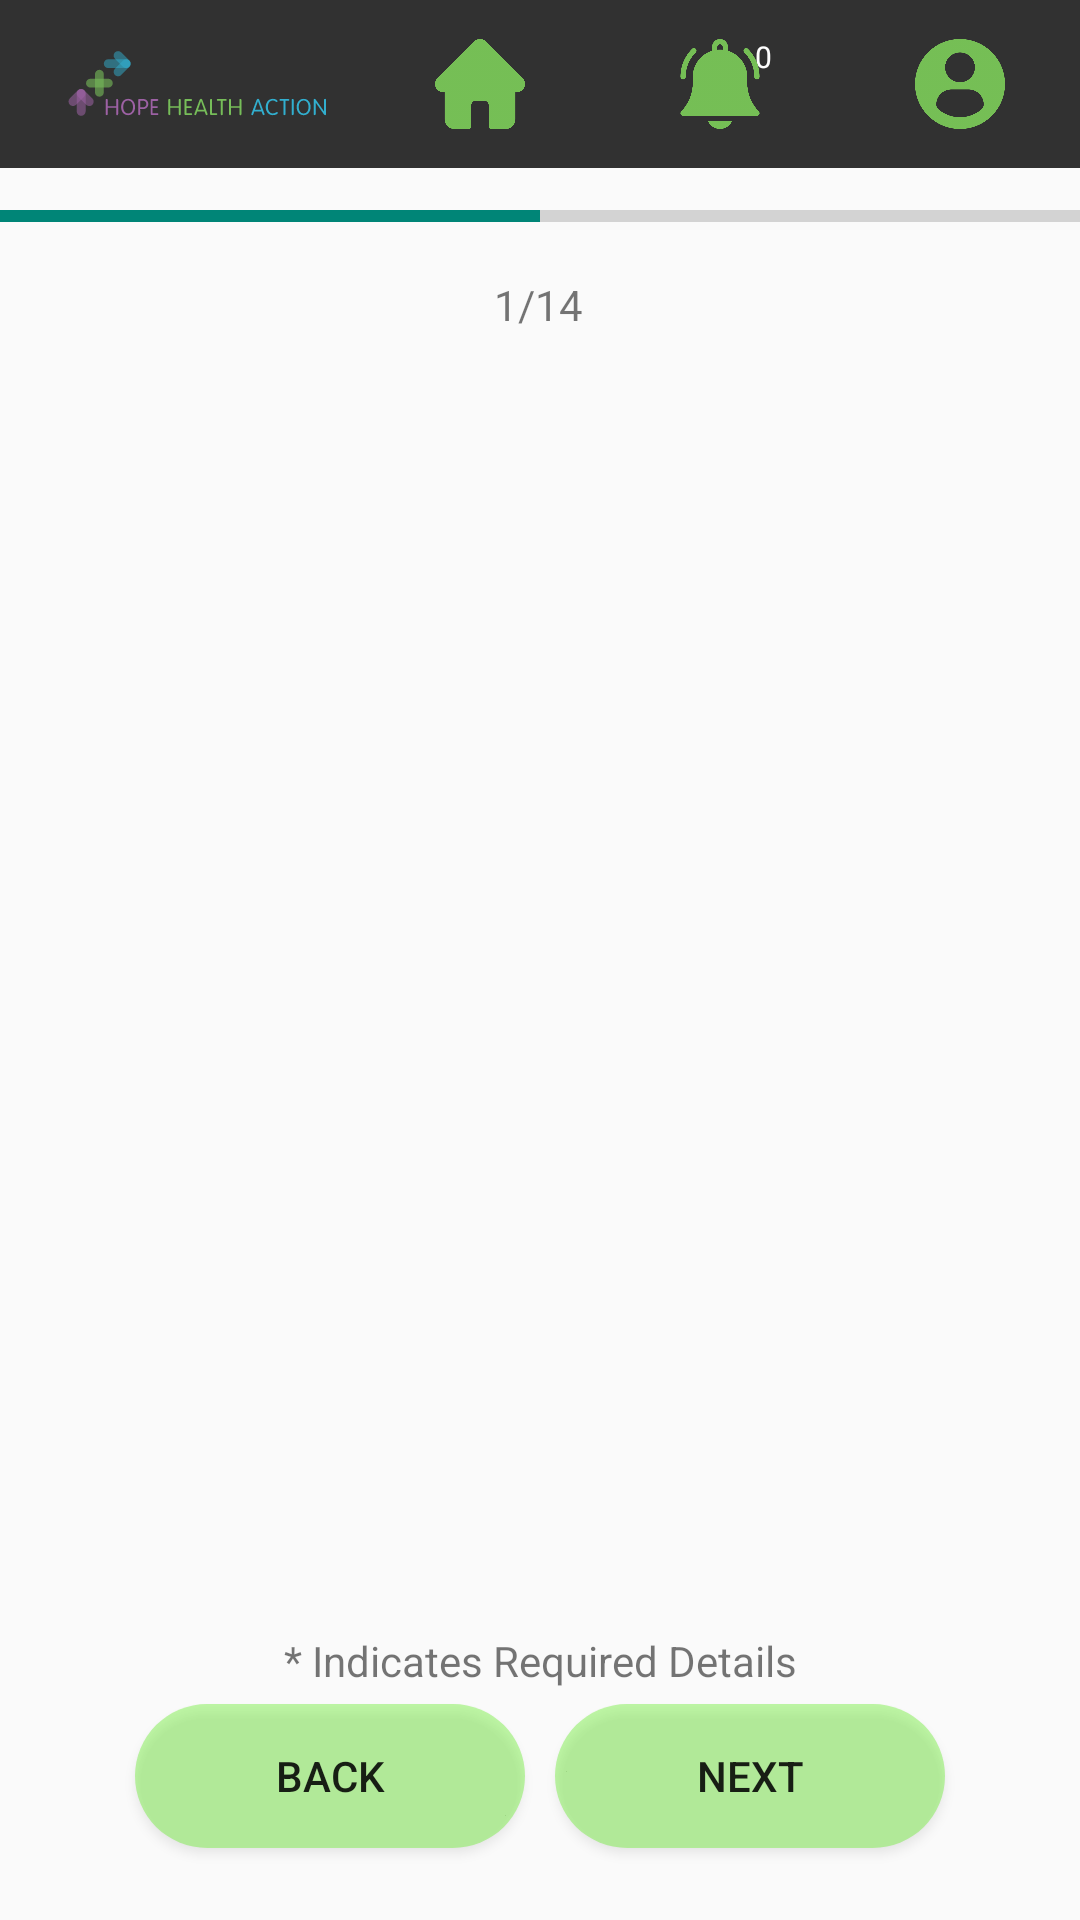

Screen size 1080px x 1920px. Icon name, then its center in pixels as point (x, y):
bell: point (725, 84)
home: point (480, 84)
profile taskbar: point (960, 84)
